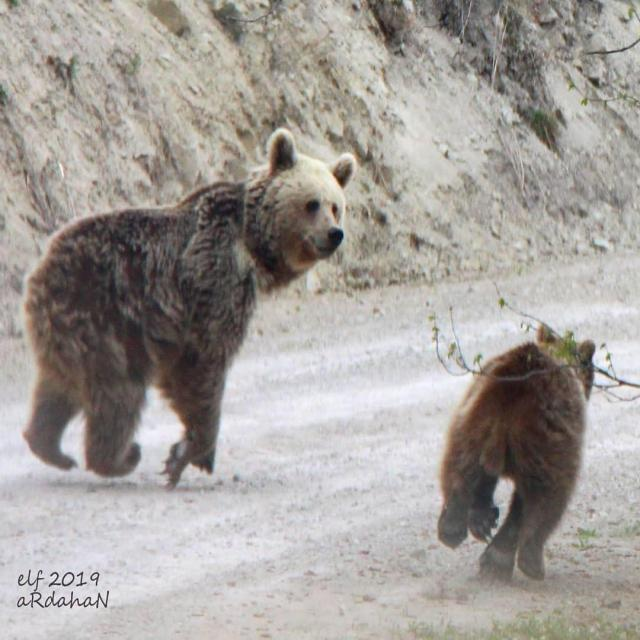Bear: (21, 132, 356, 490), (435, 342, 609, 585)
